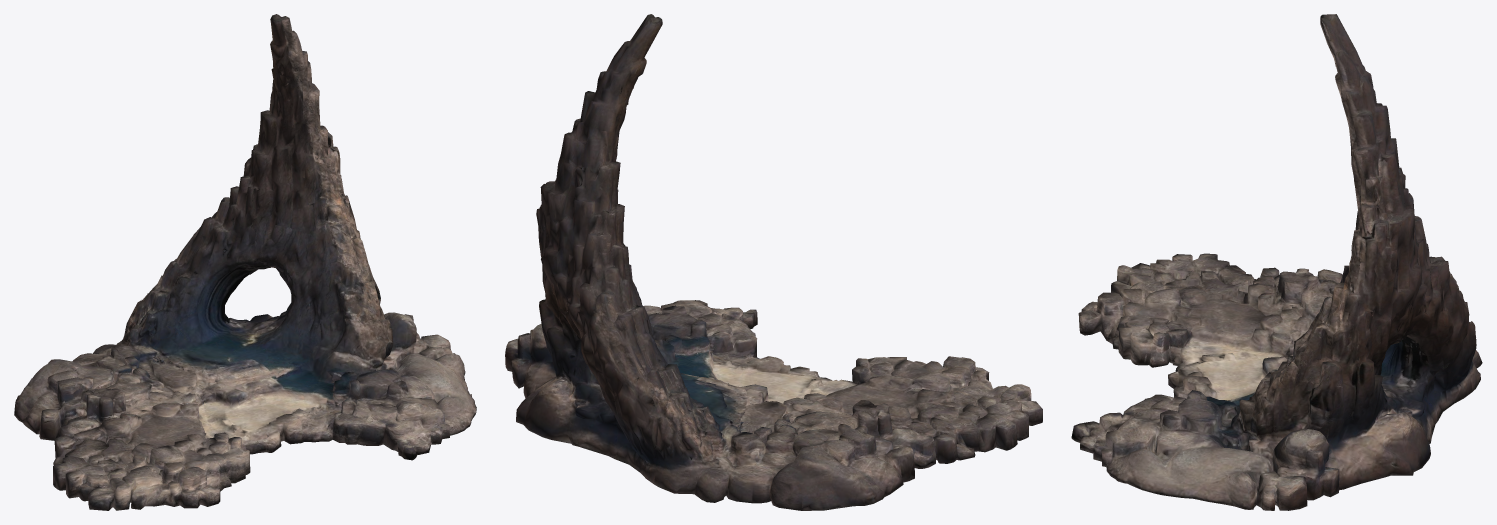
The model's file is horn_arch.glb.
3 renders of one model, left to right at view 1: azimuth 30°, elevation 25°; view 2: azimuth 150°, elevation 25°; view 3: azimuth 270°, elevation 25°, orthographic. The views are drawn at different scales.
Visible parts, largest first — view 1: horn_arch; view 2: horn_arch; view 3: horn_arch.
Part boxes in pixels (left/top/right/bottom): horn_arch: left=14, top=14, right=476, bottom=510; horn_arch: left=505, top=14, right=1042, bottom=510; horn_arch: left=1071, top=14, right=1482, bottom=510.
Bounding box in the file's own units: 1.97 × 1.61 × 1.45.
1 material, 1 textured.
